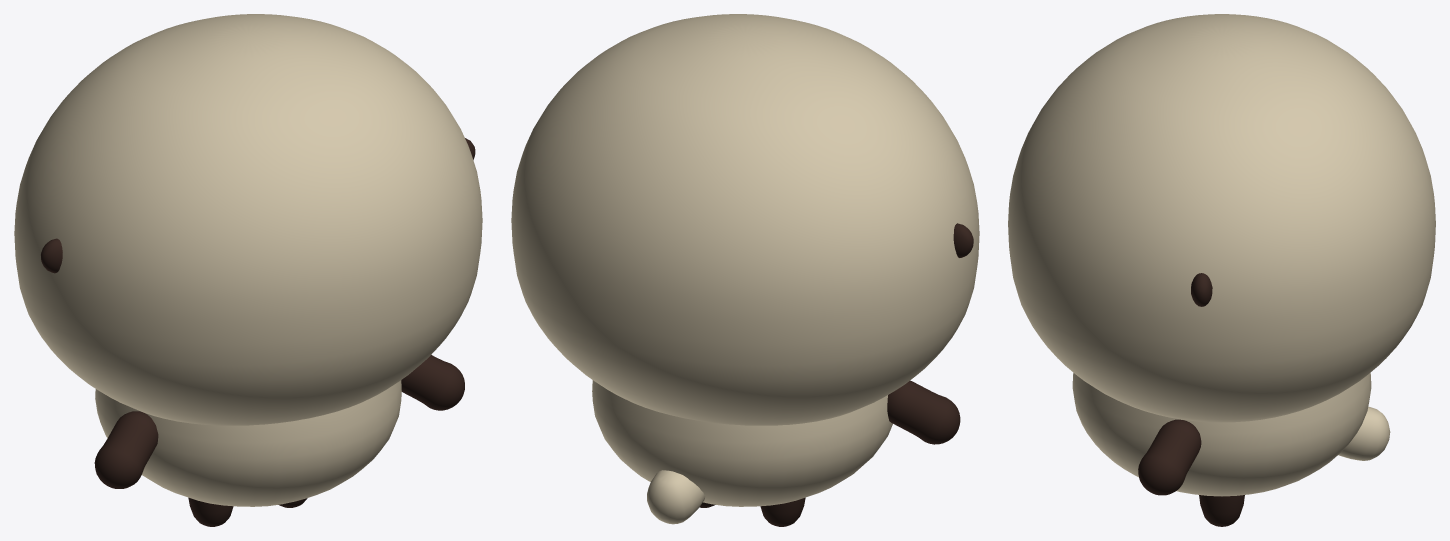
Rendered from rakko.glb.
The picture shows the model from 3 angles, left to right: view 1: azimuth 30°, elevation 25°; view 2: azimuth 150°, elevation 25°; view 3: azimuth 270°, elevation 25°; orthographic projection. The views are drawn at different scales.
Parts seen in each view (by area): view 1: rakko; view 2: rakko; view 3: rakko.
Part boxes in pixels (box(x1,y1,x2,y2)): rakko: box(14, 14, 482, 526); rakko: box(511, 14, 979, 526); rakko: box(1008, 14, 1435, 526).
Size of the model in its own units: 0.907 by 0.9591 by 0.7982.
